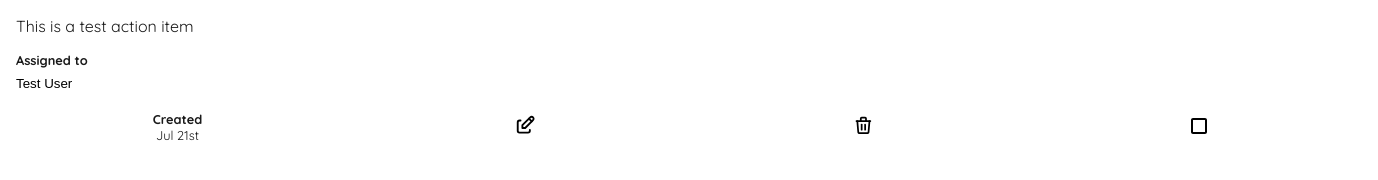
ActionItemCard › Edit functionality › should exit edit mode and revert to original message when edit button is clicked again without submitting
The width and height of the screenshot is (1378, 180).
Click the button named "edit". click: (525, 127)
box: [355, 107, 695, 147]
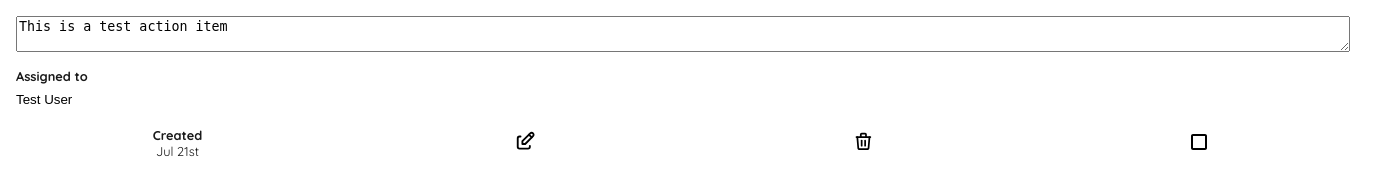
Replace the text in the text box with "Changed but not submitted". click: (683, 34)
box: [16, 16, 1350, 52]
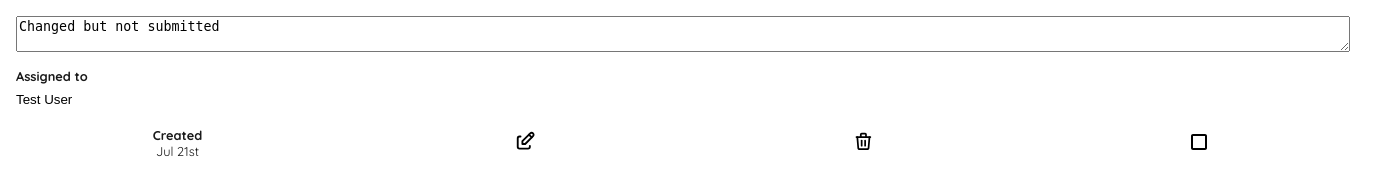
Click the button named "edit". click: (525, 143)
box: [355, 123, 695, 163]
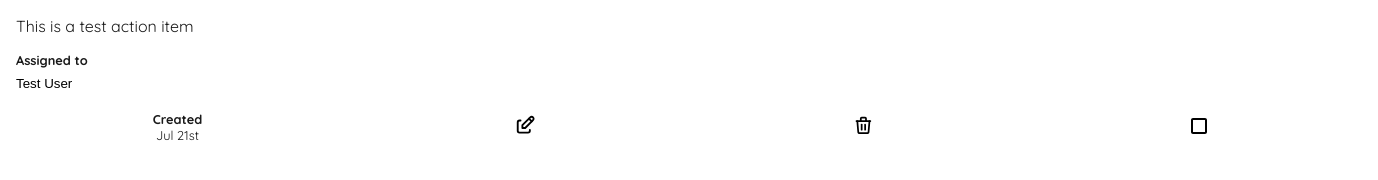
Now the text "This is a test action item" is shown, box [16, 16, 194, 36]
